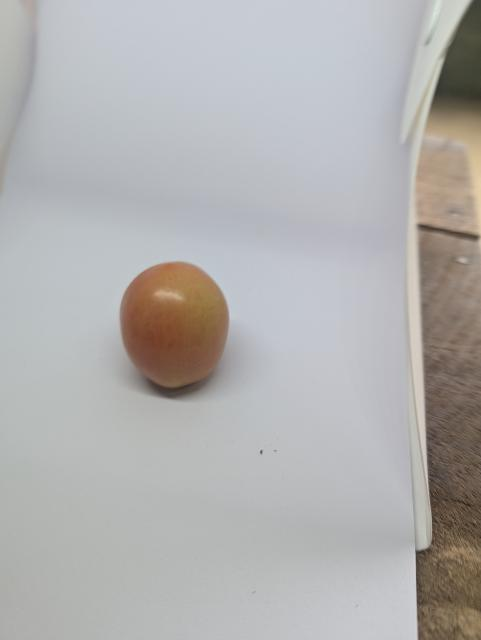turning: (118, 260, 233, 389)
